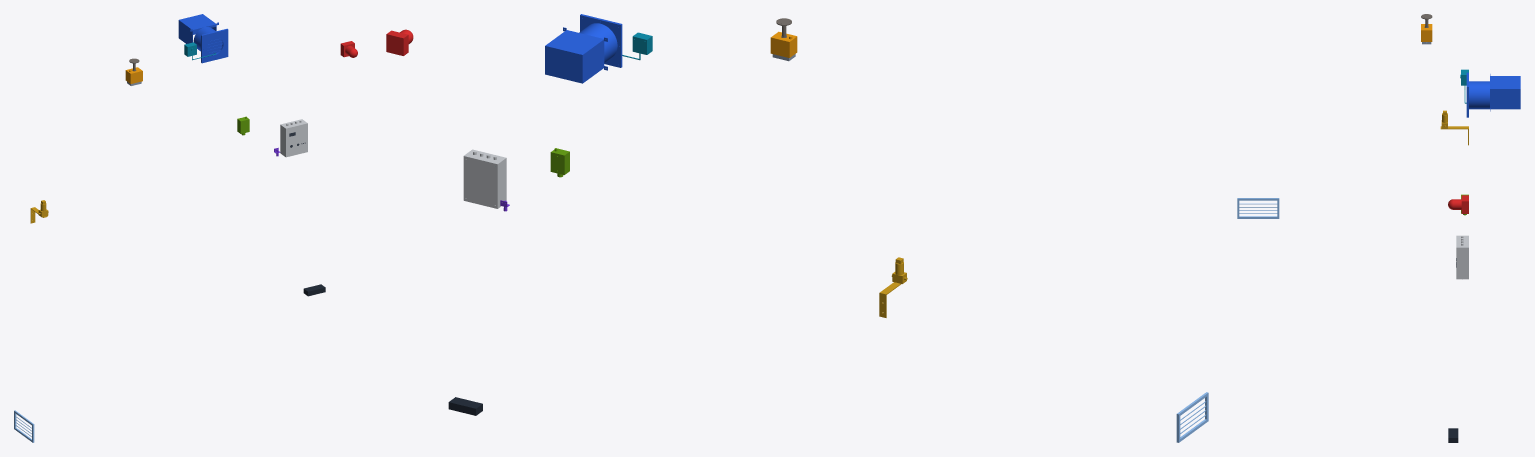
3 views of the same model, side by side, from view 1: azimuth 30°, elevation 25°; view 2: azimuth 150°, elevation 25°; view 3: azimuth 270°, elevation 25° (orthographic). The views are drawn at different scales.
Parts seen in each view (by area): view 1: Exhaust fan, 150 mm mixed flow, Controller enclosure; view 2: Exhaust fan, 150 mm mixed flow, Controller enclosure; view 3: Exhaust fan, 150 mm mixed flow, Controller enclosure, Make-up air grille, low level.
Boxes of the visible parts, x1,y1,x2,y2 form: Exhaust fan, 150 mm mixed flow: (178, 14, 228, 63); Controller enclosure: (280, 119, 307, 157); Exhaust fan, 150 mm mixed flow: (545, 14, 622, 83); Controller enclosure: (463, 149, 506, 208); Exhaust fan, 150 mm mixed flow: (1466, 72, 1520, 117); Controller enclosure: (1456, 235, 1468, 279); Make-up air grille, low level: (1237, 198, 1279, 218).
Size of the model in its own units: 3.85 by 2.5 by 2.02.
